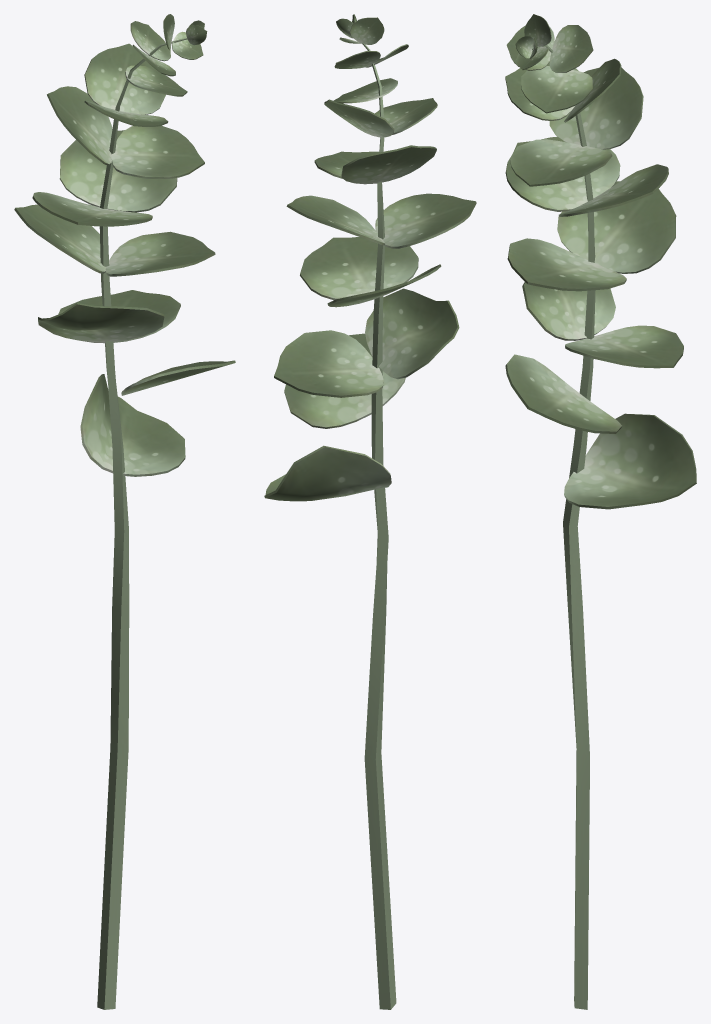
The model's file is SM_Eucalyptus.fbx.
3 renders of one model, left to right at view 1: azimuth 30°, elevation 25°; view 2: azimuth 150°, elevation 25°; view 3: azimuth 270°, elevation 25°, orthographic. The views are drawn at different scales.
Visible parts, largest first — view 1: SM_Eucalyptus; view 2: SM_Eucalyptus; view 3: SM_Eucalyptus.
Boxes of the visible parts, x1=… form: SM_Eucalyptus: x1=14, y1=14, x2=235, y2=1009; SM_Eucalyptus: x1=264, y1=14, x2=476, y2=1009; SM_Eucalyptus: x1=505, y1=14, x2=696, y2=1009.
Size of the model in its own units: 0.0359 by 0.1931 by 0.0332.
